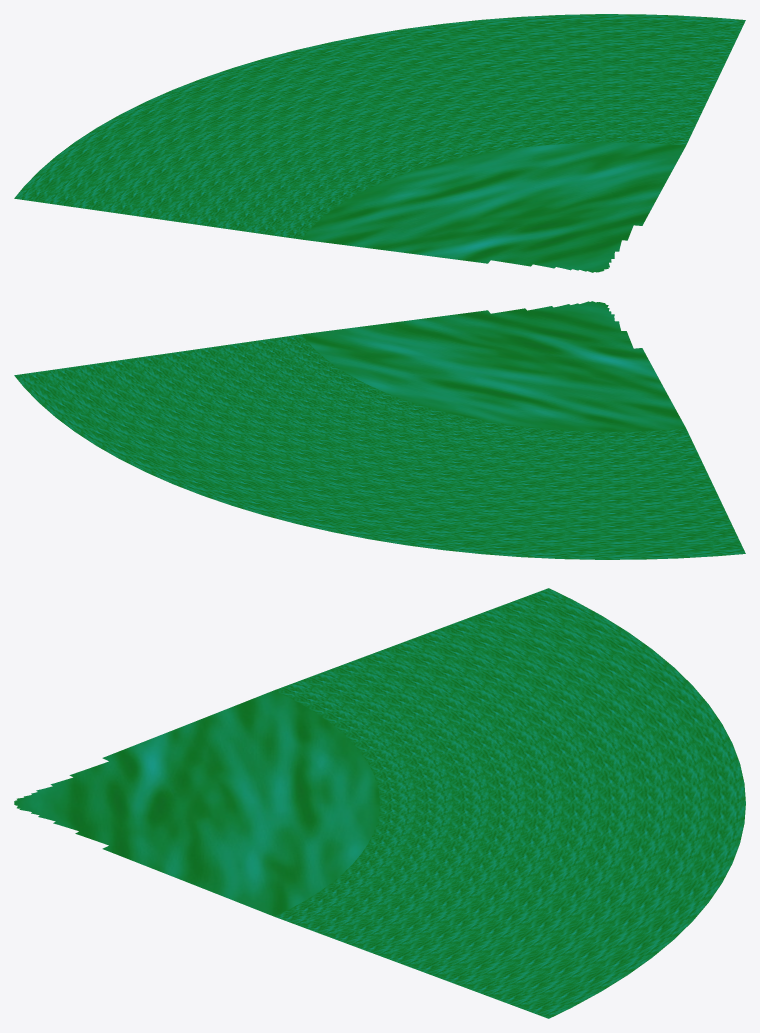
File: SeaPatch317.fbx
The picture shows the model from 3 angles, top to bottom: view 1: azimuth 30°, elevation 25°; view 2: azimuth 150°, elevation 25°; view 3: azimuth 270°, elevation 25°; orthographic projection. The views are drawn at different scales.
Visible parts, largest first — view 1: patchgeometry; view 2: patchgeometry; view 3: patchgeometry.
Boxes of the visible parts, box(x1,y1,x2,y2) form: patchgeometry: box(14, 14, 745, 272); patchgeometry: box(14, 301, 745, 559); patchgeometry: box(14, 588, 745, 1018).
Size of what is drawn, in the model's own units: 376321 by 0.044 by 270187.
1 material, 1 textured.
